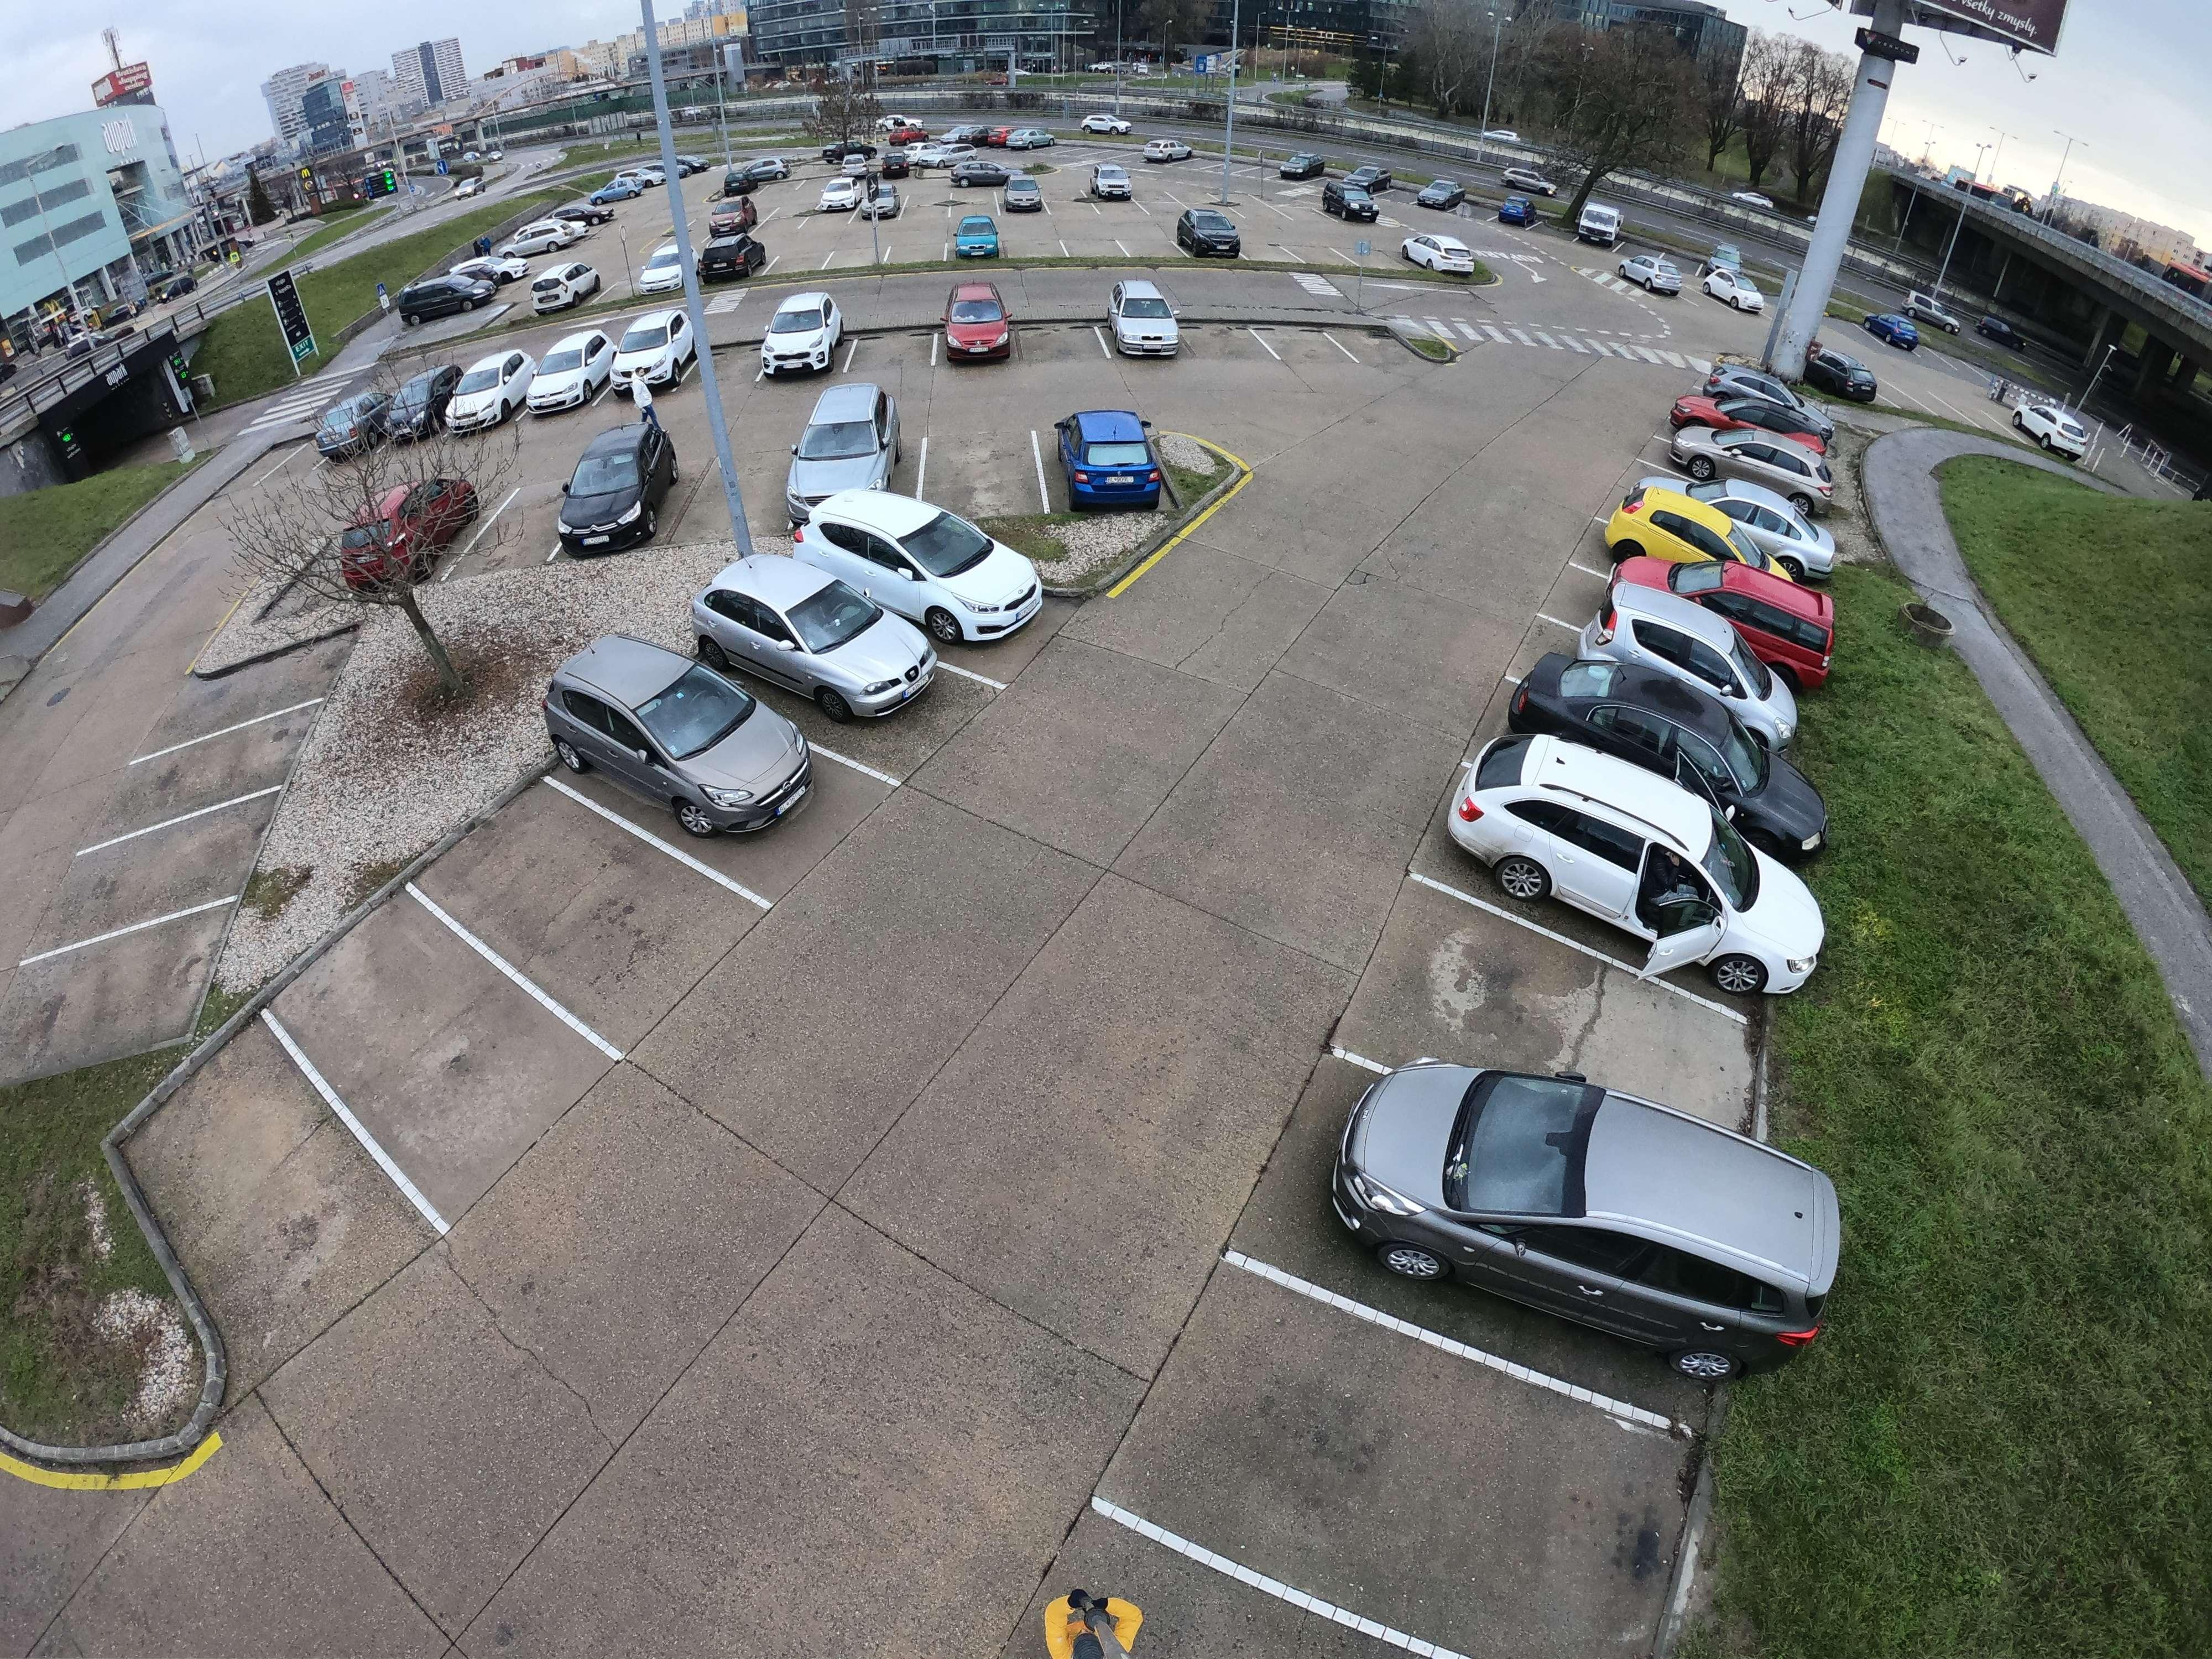empty: (1303, 1047, 1844, 1335), (1428, 728, 1775, 953), (538, 641, 808, 838), (1500, 662, 1785, 793), (700, 566, 937, 720), (812, 505, 1043, 645), (1585, 599, 1789, 714), (1602, 556, 1832, 647), (1036, 403, 1188, 521), (1620, 481, 1822, 570), (547, 432, 678, 554), (359, 462, 489, 572), (1677, 425, 1851, 505), (758, 296, 853, 383), (1106, 277, 1195, 364), (521, 329, 617, 404), (932, 298, 1019, 376), (613, 307, 705, 376), (444, 356, 524, 436), (381, 366, 458, 448), (404, 281, 505, 338), (319, 387, 388, 462), (1393, 230, 1491, 282), (627, 242, 704, 296), (1172, 207, 1245, 263), (1698, 261, 1768, 319), (697, 228, 768, 284), (523, 261, 601, 310), (1615, 249, 1689, 295), (944, 213, 1007, 263), (510, 221, 571, 258), (1078, 164, 1136, 202), (1007, 178, 1059, 216), (1318, 188, 1376, 223), (812, 179, 866, 216), (1571, 213, 1622, 251), (1273, 153, 1325, 186), (1411, 179, 1465, 209), (860, 186, 907, 218), (563, 204, 610, 234), (956, 159, 1000, 188)
occupied: (1230, 1387, 1517, 1563), (157, 1127, 338, 1302), (1400, 943, 1618, 1084), (359, 971, 533, 1126), (38, 932, 178, 1054), (507, 847, 646, 955), (98, 843, 221, 929), (923, 429, 1040, 514), (683, 453, 799, 533), (152, 741, 239, 819), (193, 669, 286, 730), (489, 504, 563, 568), (711, 340, 775, 387), (866, 329, 932, 373), (1181, 329, 1254, 368), (1029, 329, 1092, 364), (1273, 336, 1338, 369)
